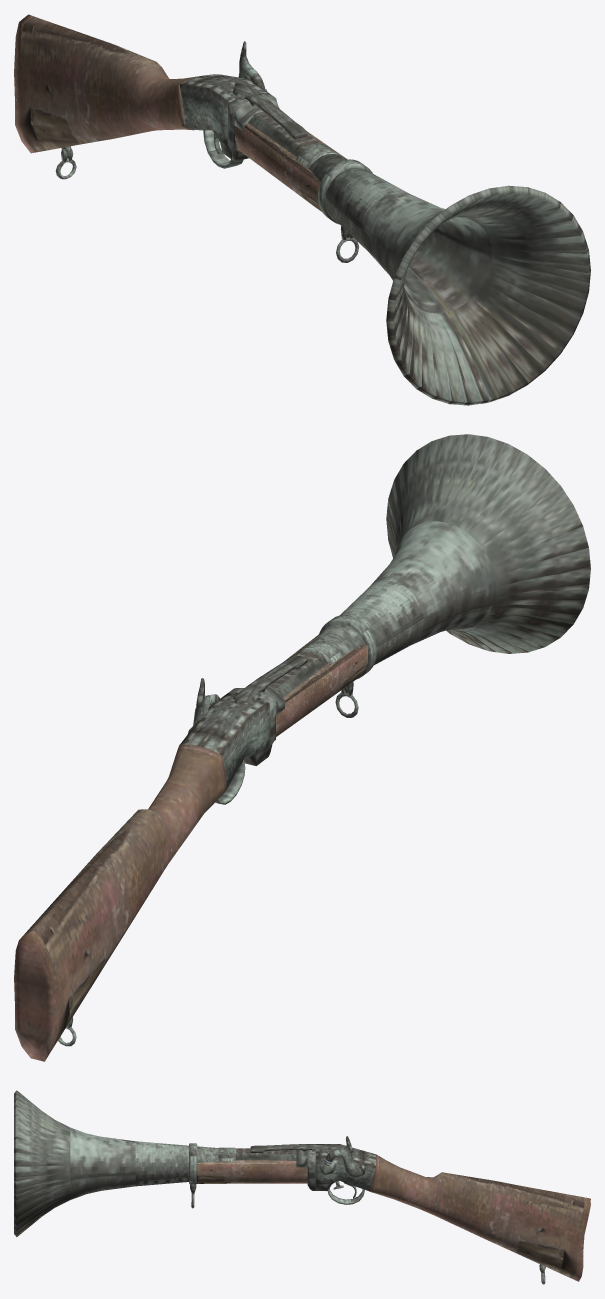
The model's file is SM_Trombloni_00.fbx.
3 views of the same model, one above another, from view 1: azimuth 30°, elevation 25°; view 2: azimuth 150°, elevation 25°; view 3: azimuth 270°, elevation 25° (orthographic). The views are drawn at different scales.
Visible parts, largest first — view 1: Barrel.007, SM_Trombloni_00, Flint.007; view 2: Barrel.007, SM_Trombloni_00; view 3: Barrel.007, SM_Trombloni_00, Flint.007.
Boxes of the visible parts, left/top/right/bottom form: Barrel.007: left=228, top=83, right=590, bottom=405; SM_Trombloni_00: left=14, top=14, right=268, bottom=179; Flint.007: left=238, top=41, right=267, bottom=91; Barrel.007: left=228, top=434, right=590, bottom=758; SM_Trombloni_00: left=14, top=692, right=269, bottom=1061; Barrel.007: left=14, top=1090, right=331, bottom=1236; SM_Trombloni_00: left=315, top=1144, right=590, bottom=1284; Flint.007: left=324, top=1136, right=365, bottom=1178.
Bounding box in the file's own units: 36.48 × 51.09 × 143.
